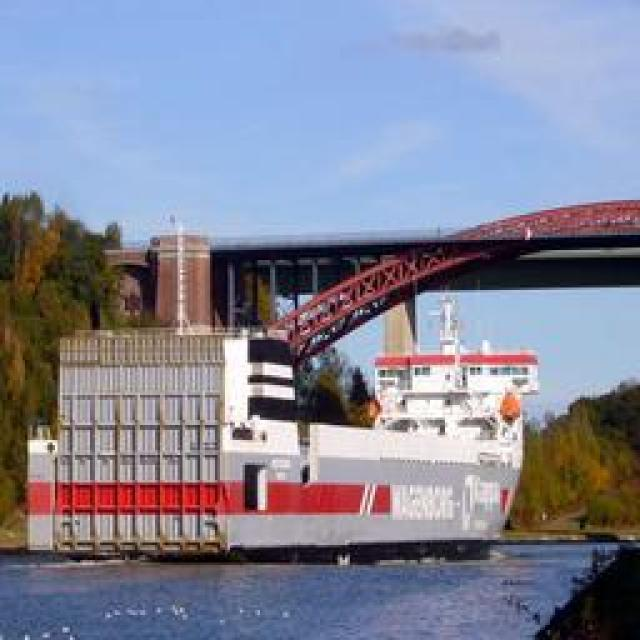CIV_Ship: (39, 258, 532, 562)
